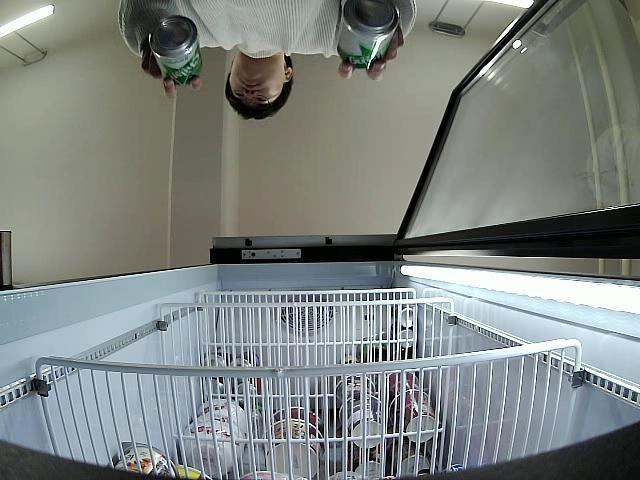12_chilsungCider: (337, 0, 398, 70), (148, 14, 202, 87)
